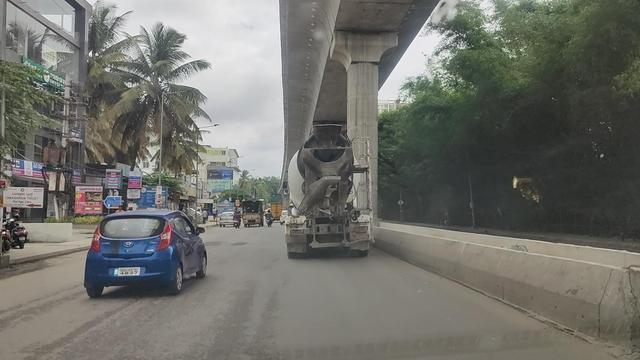HMV: (284, 124, 374, 254)
LMV: (85, 209, 206, 295)
RoadDamages: (206, 238, 251, 250)
